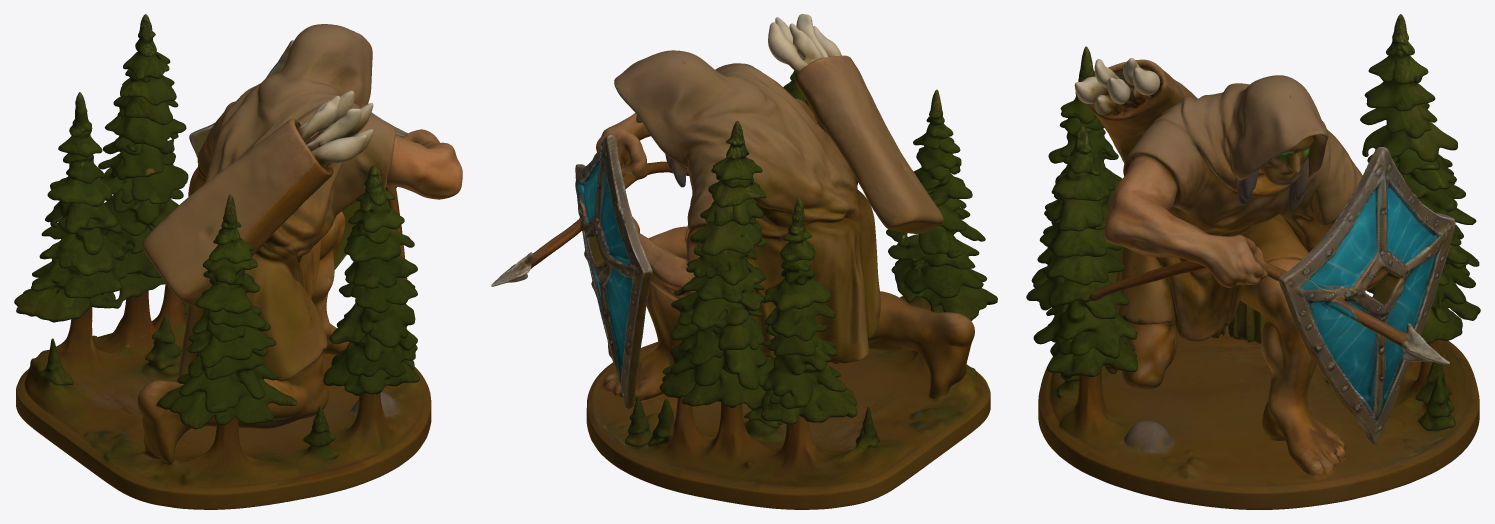
3 views of the same model, side by side, from view 1: azimuth 30°, elevation 25°; view 2: azimuth 150°, elevation 25°; view 3: azimuth 270°, elevation 25° (orthographic). The views are drawn at different scales.
Parts seen in each view (by area): view 1: tripo_node_0de8fbd6-8581-4ef0-b4db-4a870a83a10b; view 2: tripo_node_0de8fbd6-8581-4ef0-b4db-4a870a83a10b; view 3: tripo_node_0de8fbd6-8581-4ef0-b4db-4a870a83a10b.
Boxes of the visible parts, <box> form: tripo_node_0de8fbd6-8581-4ef0-b4db-4a870a83a10b: <box>14,14,462,509</box>; tripo_node_0de8fbd6-8581-4ef0-b4db-4a870a83a10b: <box>491,14,997,509</box>; tripo_node_0de8fbd6-8581-4ef0-b4db-4a870a83a10b: <box>1026,14,1480,509</box>.
Size of the model in its own units: 1 by 0.9325 by 0.9784.
Materials: 1 (1 with a texture image).
